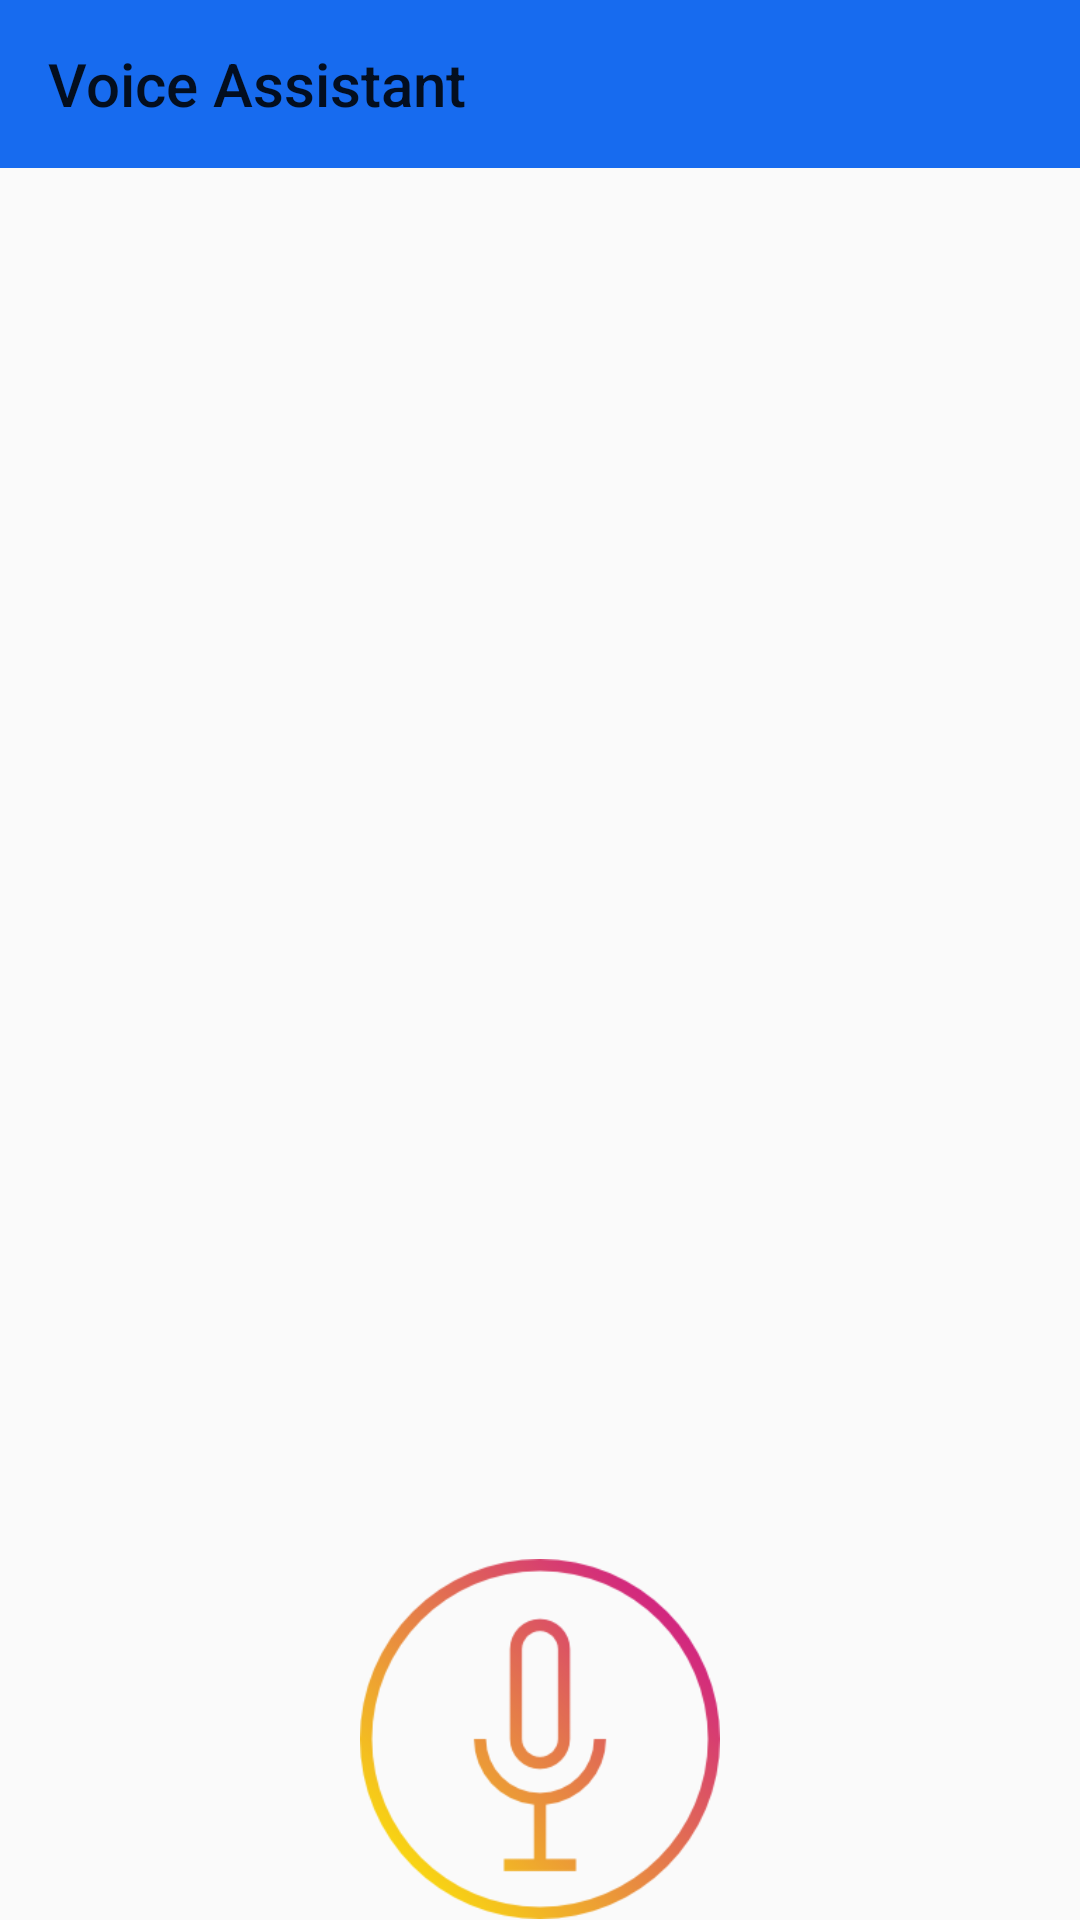

Screen size 1080 x 1920. Icon name, then its center in pixels as (x=x, y=y):
micimg: (x=540, y=1739)
